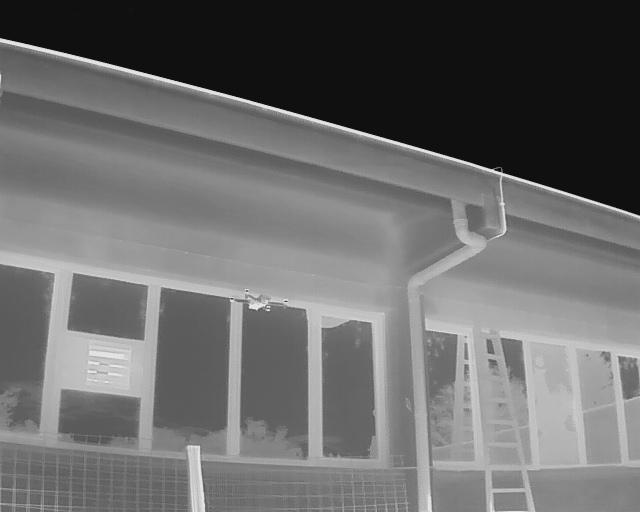drone: (214, 266, 300, 328)
